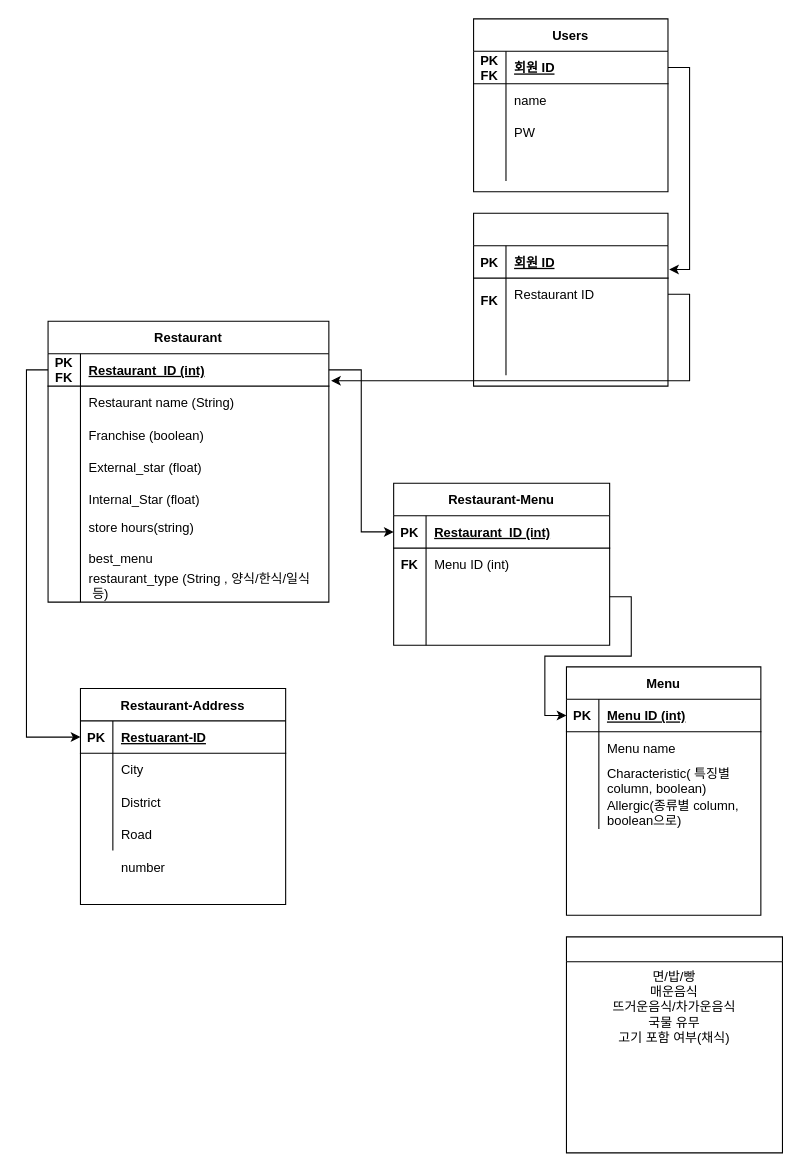
The diagram is 801 pixels wide and 1172 high, and some of its shapes have lost their labels. The box of each missing label's shape, as (x1, y1, x2, y2) in pixels:
Users-Favorites: (473, 212, 668, 386)
메뉴 특징: (565, 936, 782, 1153)
